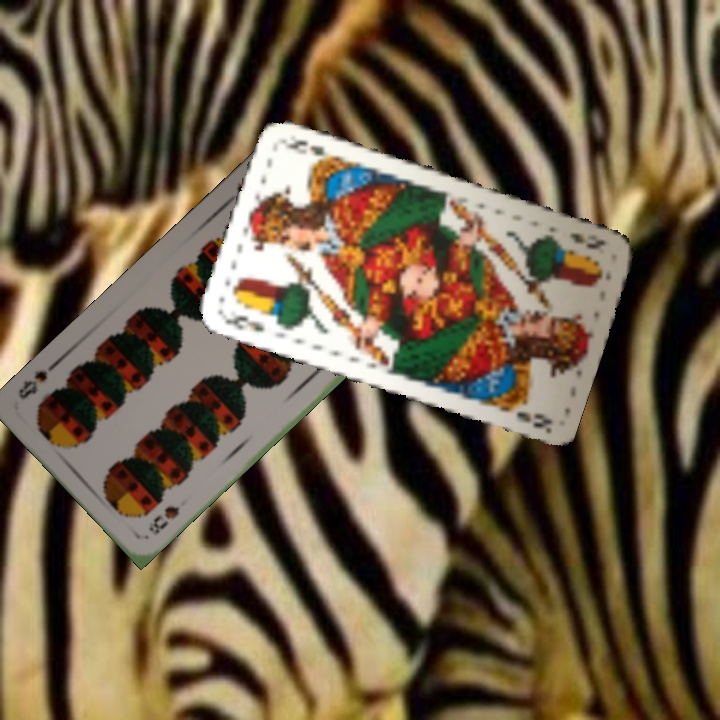EK: (218, 311, 268, 335), (565, 228, 609, 252)
S8: (144, 502, 183, 538)
